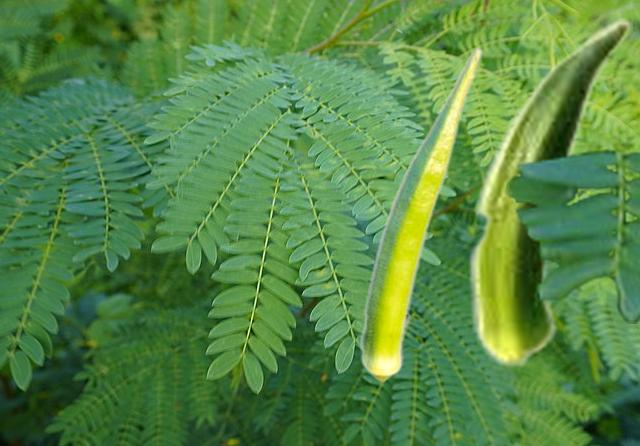okra: (467, 18, 631, 368), (360, 46, 482, 382)
